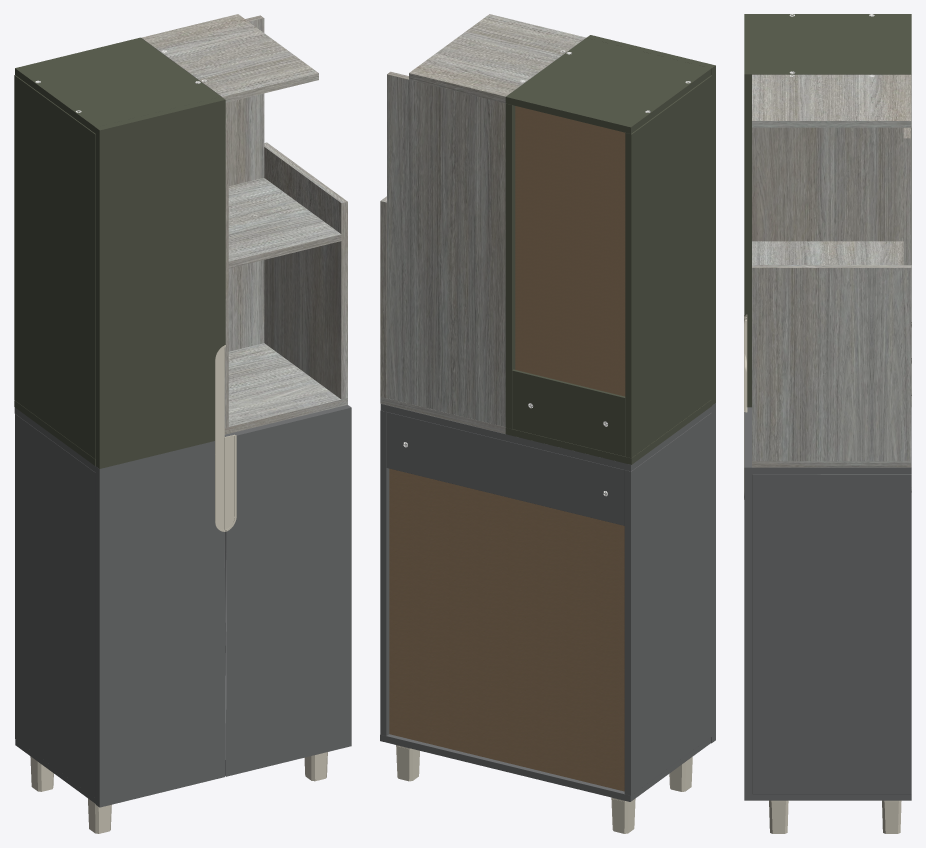
The picture shows the model from 3 angles, left to right: view 1: azimuth 30°, elevation 25°; view 2: azimuth 150°, elevation 25°; view 3: azimuth 270°, elevation 25°; orthographic projection.
Parts seen in each view (by area): view 1: group_0.467, Cube.001, Cube.007, group_0.115; view 2: group_0.369, Cube.001, group_0.467, Cube.007, group_0.002, group_0.115; view 3: Cube.007, group_0.467, Cube.001, group_0.115.
Boxes of the visible parts, bbox=[...] form: group_0.467: bbox=[14, 405, 351, 807]; Cube.001: bbox=[14, 37, 225, 468]; Cube.007: bbox=[141, 14, 347, 434]; group_0.115: bbox=[30, 345, 327, 833]; group_0.369: bbox=[389, 468, 624, 791]; Cube.001: bbox=[505, 35, 715, 464]; group_0.467: bbox=[380, 403, 715, 801]; Cube.007: bbox=[380, 14, 585, 433]; group_0.002: bbox=[515, 106, 625, 396]; group_0.115: bbox=[396, 745, 692, 833]; Cube.007: bbox=[752, 74, 911, 467]; group_0.467: bbox=[744, 407, 911, 800]; Cube.001: bbox=[744, 14, 911, 407]; group_0.115: bbox=[744, 314, 901, 833].
Bounding box in the file's own units: 0.7022 × 1.9 × 0.4114.
Materials: 8 (3 with a texture image).
